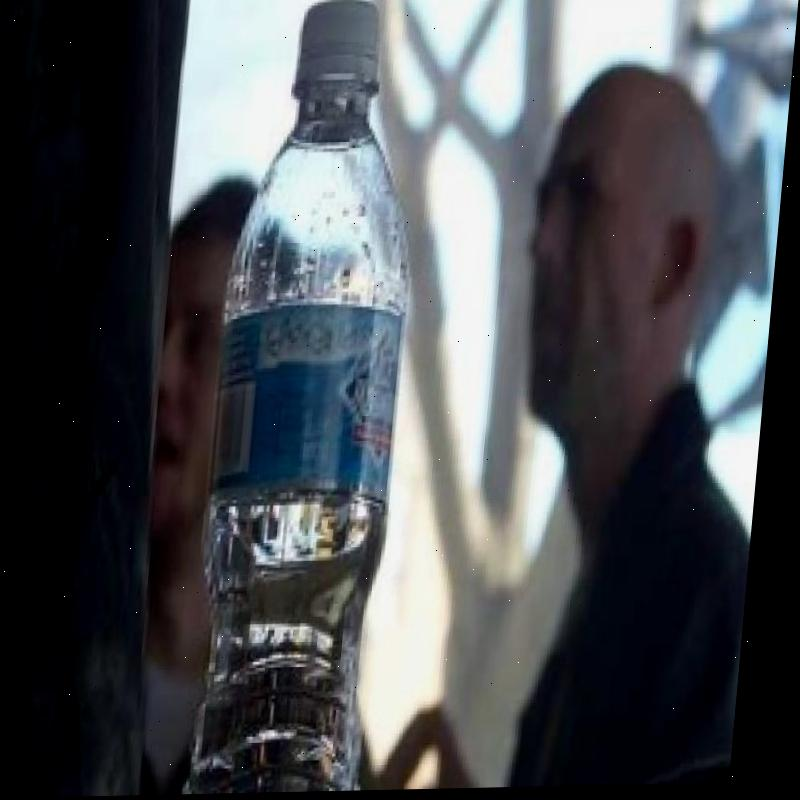botella: (190, 1, 433, 796)
